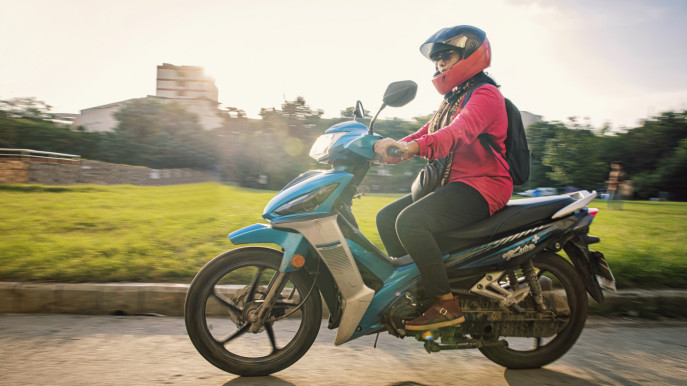scooter: (185, 82, 616, 377)
